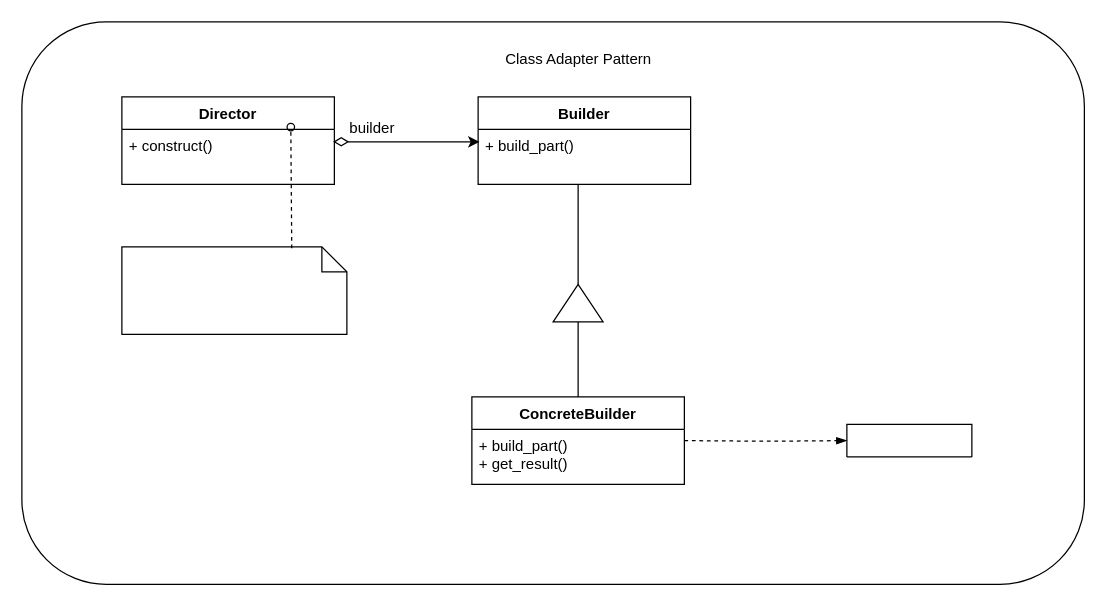
This 1106x606 diagram has some shape labels left out. Here are the shapes that lost their labels. From the top down, the centre of each, then its label:
At (x=234, y=290): "for all objects in structure { builder->build_part() }".
At (x=909, y=440): "Product".
